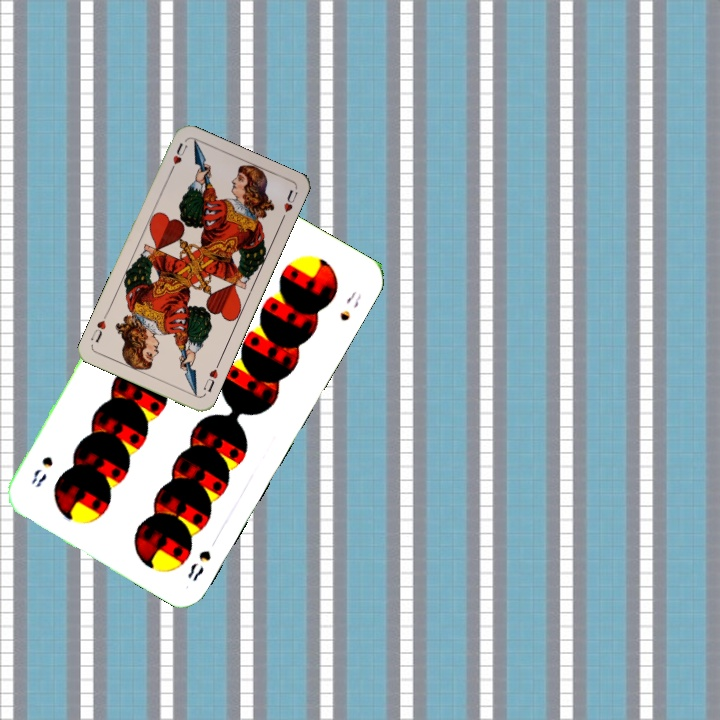HU: (166, 139, 190, 176), (199, 359, 222, 395)
S8: (183, 546, 214, 584)
